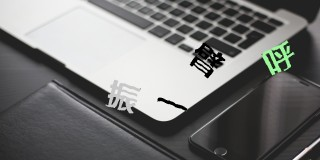一: (155, 95, 190, 114)
呼: (262, 39, 295, 75)
振: (107, 79, 140, 115)
臂: (190, 40, 226, 80)
